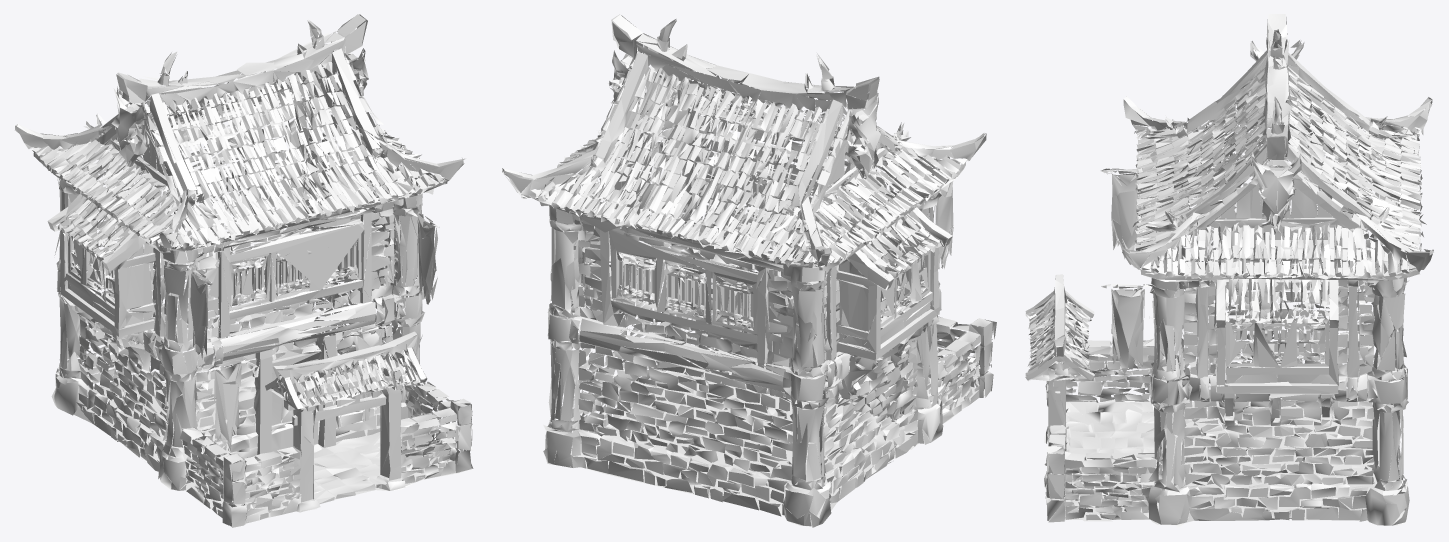
File: house_stone_d_lod1.glb
The picture shows the model from 3 angles, left to right: view 1: azimuth 30°, elevation 25°; view 2: azimuth 150°, elevation 25°; view 3: azimuth 270°, elevation 25°; orthographic projection. The views are drawn at different scales.
Parts seen in each view (by area): view 1: house_stone_d; view 2: house_stone_d; view 3: house_stone_d.
Part boxes in pixels (bbox=[...]): house_stone_d: bbox=[14, 14, 473, 527]; house_stone_d: bbox=[502, 14, 996, 527]; house_stone_d: bbox=[1025, 14, 1433, 527].
Size of the model in its own units: 7.64 by 8.53 by 7.92.
Materials: 1 (1 with a texture image).
